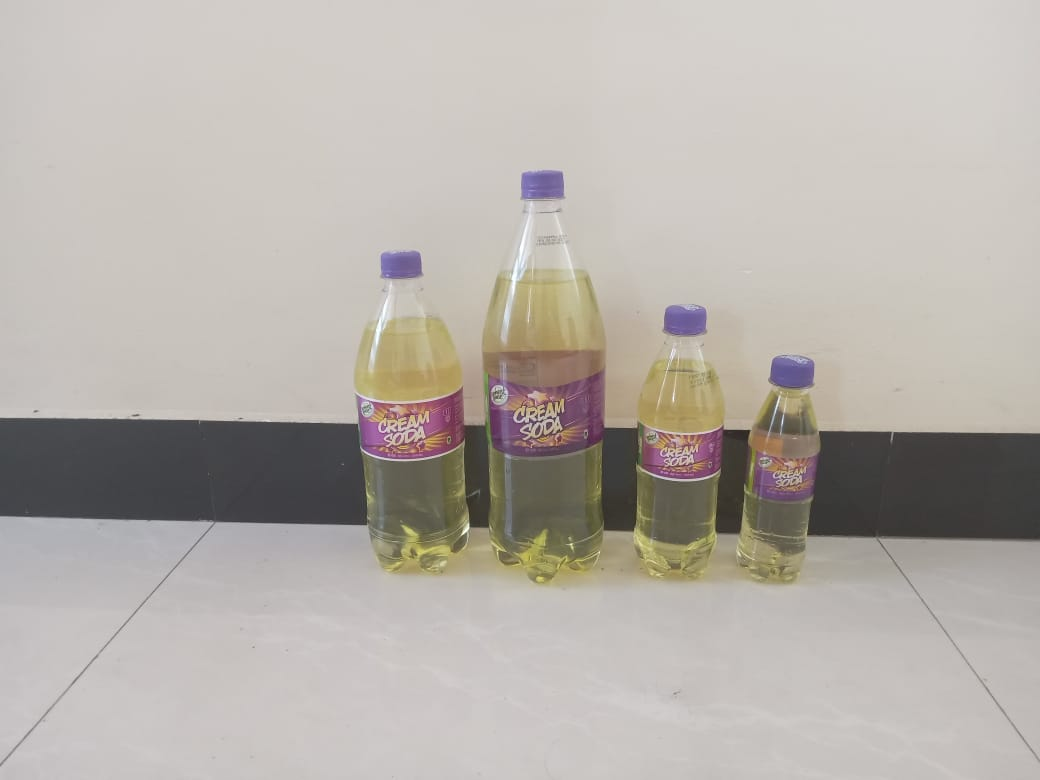L: (479, 169, 611, 589)
M: (353, 249, 470, 577)
S: (634, 305, 725, 582)
Xs: (735, 349, 825, 584)
